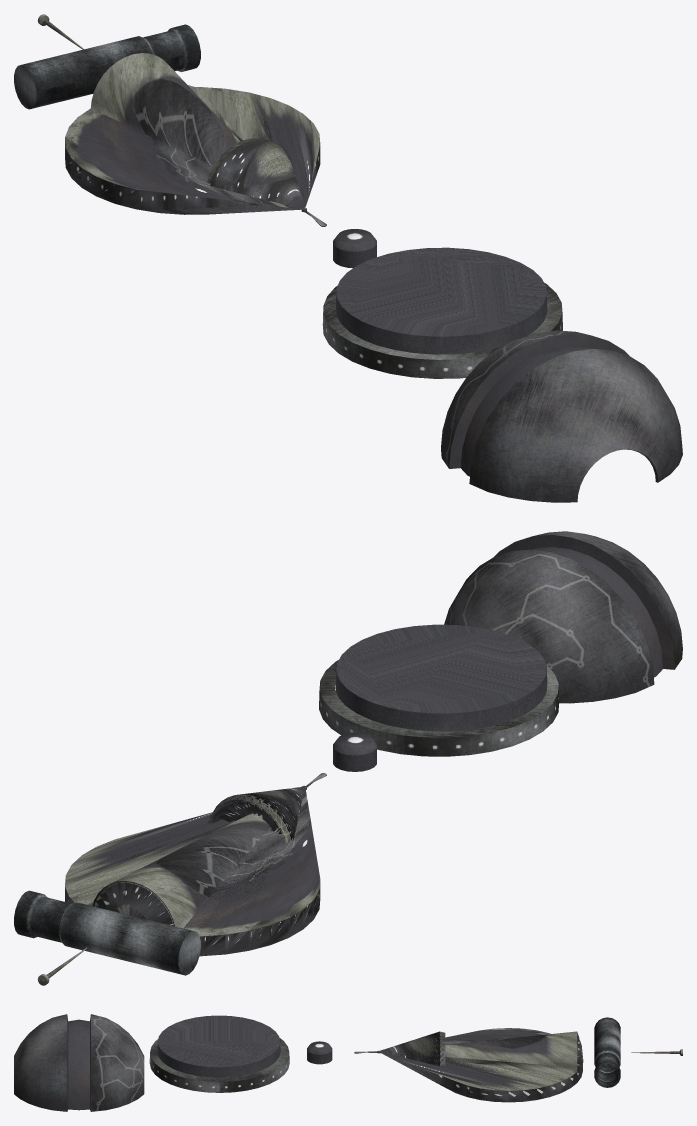
File: Parts.FBX
3 views of the same model, one above another, from view 1: azimuth 30°, elevation 25°; view 2: azimuth 150°, elevation 25°; view 3: azimuth 270°, elevation 25° (orthographic). The views are drawn at different scales.
Visible parts, largest first — view 1: Cylinder002, Dome, Base, Gun, Cap; view 2: Cylinder002, Dome, Base, Gun, Cap; view 3: Cylinder002, Dome, Base, Gun, Cap.
Part boxes in pixels (left/top/right/bottom): Cylinder002: left=65, top=53, right=326, bottom=226; Dome: left=441, top=330, right=682, bottom=502; Base: left=322, top=247, right=562, bottom=378; Gun: left=14, top=24, right=200, bottom=109; Cap: left=333, top=229, right=376, bottom=268; Cylinder002: left=65, top=773, right=326, bottom=956; Dome: left=444, top=531, right=682, bottom=703; Base: left=319, top=624, right=559, bottom=756; Gun: left=14, top=890, right=200, bottom=975; Cap: left=333, top=732, right=376, bottom=771; Cylinder002: left=354, top=1028, right=583, bottom=1102; Dome: left=14, top=1014, right=144, bottom=1111; Base: left=149, top=1015, right=289, bottom=1092; Gun: left=594, top=1017, right=620, bottom=1087; Cap: left=307, top=1041, right=332, bottom=1064.
Size of the model in its own units: 0.9887 by 0.4627 by 4.44.
